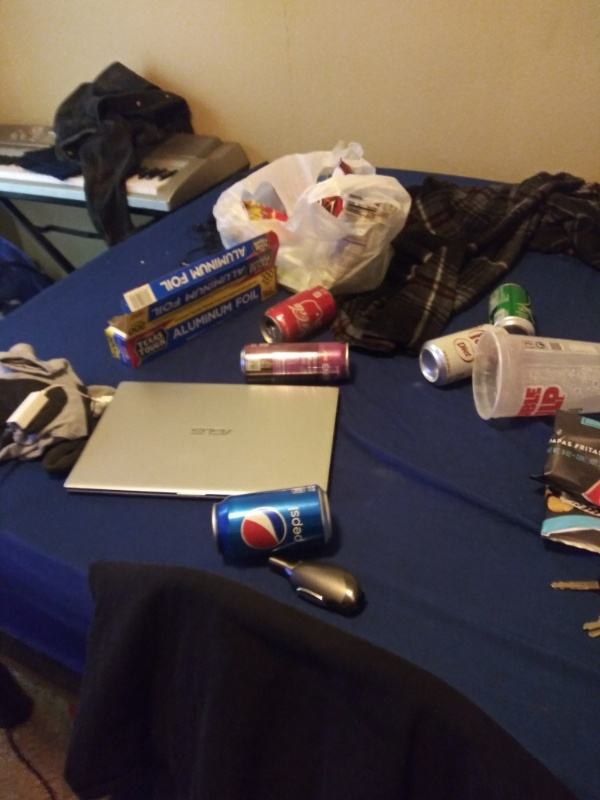can: (208, 479, 342, 565), (237, 340, 357, 392), (416, 323, 510, 385), (252, 283, 339, 346), (487, 279, 540, 345)
